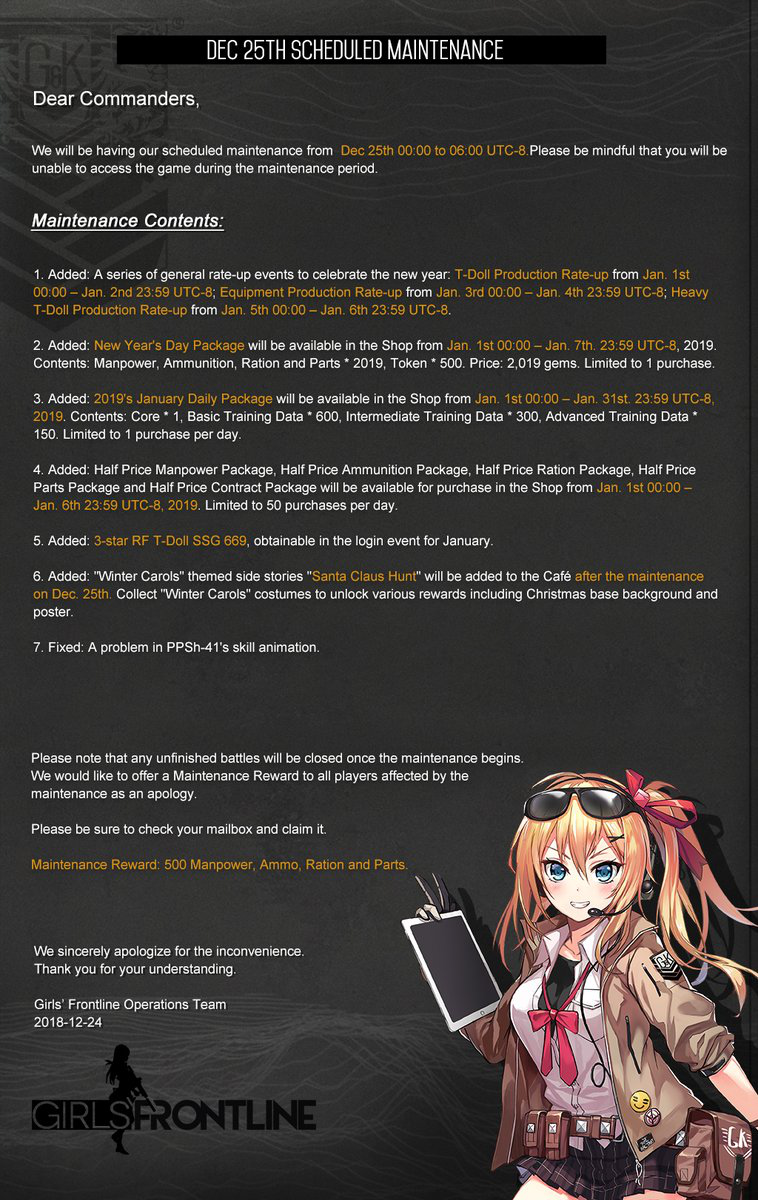latin: (31, 459, 697, 523), (32, 562, 719, 623), (30, 387, 716, 445), (31, 262, 710, 318), (29, 746, 522, 813), (30, 140, 731, 187), (31, 333, 718, 378), (31, 935, 306, 1042), (31, 530, 492, 552), (28, 857, 407, 881), (206, 35, 507, 64), (31, 634, 323, 660), (29, 821, 329, 845), (28, 205, 228, 233), (31, 88, 203, 112)
